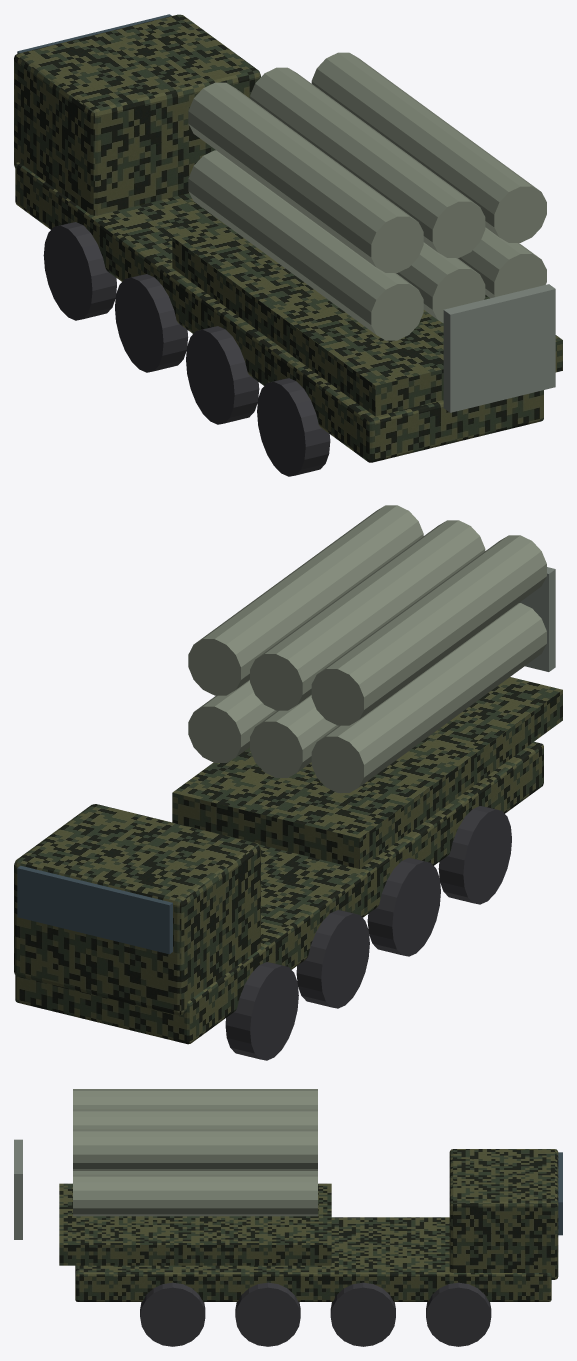
Rendered from type_hq16.glb.
The picture shows the model from 3 angles, top to bottom: view 1: azimuth 30°, elevation 25°; view 2: azimuth 150°, elevation 25°; view 3: azimuth 270°, elevation 25°; orthographic projection. The views are drawn at different scales.
Visible parts, largest first — view 1: hq16_cab, hq16_chassis, hq16_base, hq16_tube_0_1, hq16_tube_0_0, hq16_tube_1_1, hq16_tube_2_1, hq16_radar, hq16_wheel_-1_3, hq16_wheel_-1_0, hq16_wheel_-1_1, hq16_wheel_-1_2 (+2 smaller); view 2: hq16_cab, hq16_base, hq16_chassis, hq16_tube_0_1, hq16_tube_0_0, hq16_tube_1_1, hq16_tube_2_1, hq16_win, hq16_wheel_-1_0, hq16_wheel_-1_1, hq16_wheel_-1_3, hq16_wheel_-1_2 (+3 smaller); view 3: hq16_chassis, hq16_base, hq16_cab, hq16_tube_2_0, hq16_tube_2_1, hq16_tube_0_1, hq16_tube_1_1, hq16_wheel_1_2, hq16_wheel_1_3, hq16_wheel_1_1, hq16_wheel_1_0, hq16_tube_1_0 (+2 smaller).
Part boxes in pixels (x1,y1,x2,y2): hq16_cab: (14,14,260,215); hq16_chassis: (15,162,543,462); hq16_base: (172,224,562,416); hq16_tube_0_1: (188,82,423,272); hq16_tube_0_0: (188,150,423,340); hq16_tube_1_1: (250,67,485,257); hq16_tube_2_1: (311,52,546,242); hq16_radar: (443,284,555,412); hq16_wheel_-1_3: (257,378,330,476); hq16_wheel_-1_0: (43,222,116,320); hq16_wheel_-1_1: (115,274,188,372); hq16_wheel_-1_2: (186,326,259,424); hq16_cab: (14,804,260,1015); hq16_base: (172,677,562,868); hq16_chassis: (15,741,543,1044); hq16_tube_0_1: (311,535,546,725); hq16_tube_0_0: (311,603,546,792); hq16_tube_1_1: (250,520,485,710); hq16_tube_2_1: (188,505,423,695); hq16_win: (17,865,172,954); hq16_wheel_-1_0: (225,962,298,1060); hq16_wheel_-1_1: (296,910,369,1008); hq16_wheel_-1_3: (438,806,511,904); hq16_wheel_-1_2: (367,858,440,956); hq16_chassis: (75,1217,551,1301); hq16_base: (59,1183,331,1265); hq16_cab: (449,1149,558,1279); hq16_tube_2_0: (73,1174,317,1216); hq16_tube_2_1: (73,1129,317,1170); hq16_tube_0_1: (73,1089,317,1109); hq16_tube_1_1: (73,1109,317,1129); hq16_wheel_1_2: (235,1282,300,1346); hq16_wheel_1_3: (140,1282,205,1346); hq16_wheel_1_1: (330,1282,395,1346); hq16_wheel_1_0: (426,1282,491,1346); hq16_tube_1_0: (73,1171,317,1174).
Size of the model in its own units: 3.52 by 4.91 by 12.1.
5 materials, 1 textured.
